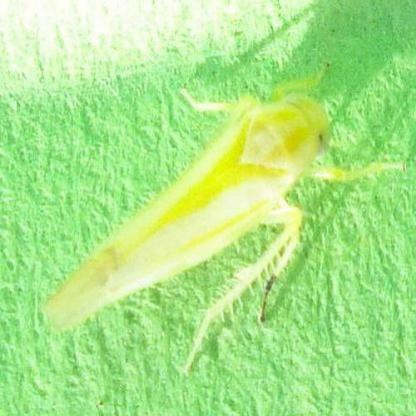green-leafhopper: (52, 90, 334, 346)
